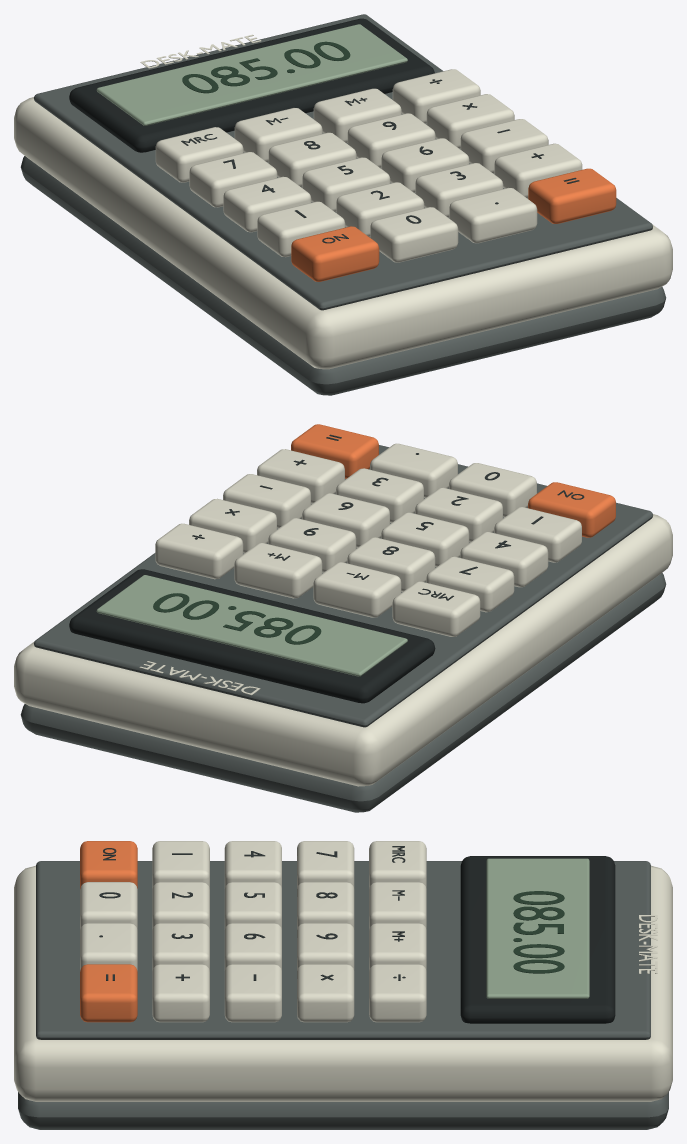
The model's file is calculator.glb.
The picture shows the model from 3 angles, top to bottom: view 1: azimuth 30°, elevation 25°; view 2: azimuth 150°, elevation 25°; view 3: azimuth 270°, elevation 25°; orthographic projection. The views are drawn at different scales.
Parts seen in each view (by area): view 1: Calculator body, Calculator face, Calculator bottom, LCD glass, LCD frame, Calculator key ON, Calculator key ., Calculator key =, Calculator key 0, Calculator key 1, Calculator key 7, Calculator key 4 (+15 smaller); view 2: Calculator body, Calculator face, Calculator bottom, LCD glass, LCD frame, Calculator key MRC, Calculator key ÷, Calculator key M+, Calculator key M−, Calculator key 7, Calculator key 1, Calculator key 4 (+15 smaller); view 3: Calculator body, Calculator face, Calculator bottom, LCD glass, LCD frame, Calculator key −, Calculator key ÷, Calculator key +, Calculator key =, Calculator key ×, Calculator key ., Calculator key M− (+15 smaller).
Boxes of the visible parts, bbox=[...] form: Calculator body: bbox=[14, 97, 672, 369]; Calculator face: bbox=[34, 14, 652, 310]; Calculator bottom: bbox=[20, 156, 666, 395]; LCD glass: bbox=[96, 24, 407, 125]; LCD frame: bbox=[69, 18, 434, 152]; Calculator key ON: bbox=[291, 226, 379, 281]; Calculator key .: bbox=[449, 187, 537, 243]; Calculator key =: bbox=[528, 168, 616, 223]; Calculator key 0: bbox=[370, 207, 458, 262]; Calculator key 1: bbox=[257, 201, 345, 257]; Calculator key 7: bbox=[189, 152, 277, 207]; Calculator key 4: bbox=[223, 176, 311, 232]; Calculator body: bbox=[14, 514, 672, 786]; Calculator face: bbox=[34, 445, 652, 727]; Calculator bottom: bbox=[20, 573, 666, 812]; LCD glass: bbox=[96, 575, 407, 676]; LCD frame: bbox=[69, 569, 435, 703]; Calculator key MRC: bbox=[392, 581, 480, 636]; Calculator key ÷: bbox=[155, 523, 243, 579]; Calculator key M+: bbox=[234, 543, 322, 598]; Calculator key M−: bbox=[313, 562, 401, 617]; Calculator key 7: bbox=[426, 556, 514, 612]; Calculator key 1: bbox=[494, 507, 581, 562]; Calculator key 4: bbox=[460, 532, 548, 587]; Calculator body: bbox=[14, 865, 672, 1101]; Calculator face: bbox=[36, 861, 650, 1039]; Calculator bottom: bbox=[18, 1092, 668, 1129]; LCD glass: bbox=[486, 858, 589, 998]; LCD frame: bbox=[460, 856, 615, 1023]; Calculator key −: bbox=[224, 964, 281, 1022]; Calculator key ÷: bbox=[369, 964, 426, 1022]; Calculator key +: bbox=[152, 964, 209, 1022]; Calculator key =: bbox=[80, 964, 137, 1022]; Calculator key ×: bbox=[297, 964, 354, 1022]; Calculator key .: bbox=[80, 923, 137, 971]; Calculator key M−: bbox=[369, 882, 426, 930].
Size of the model in its own units: 1.13 by 0.3597 by 1.66.
